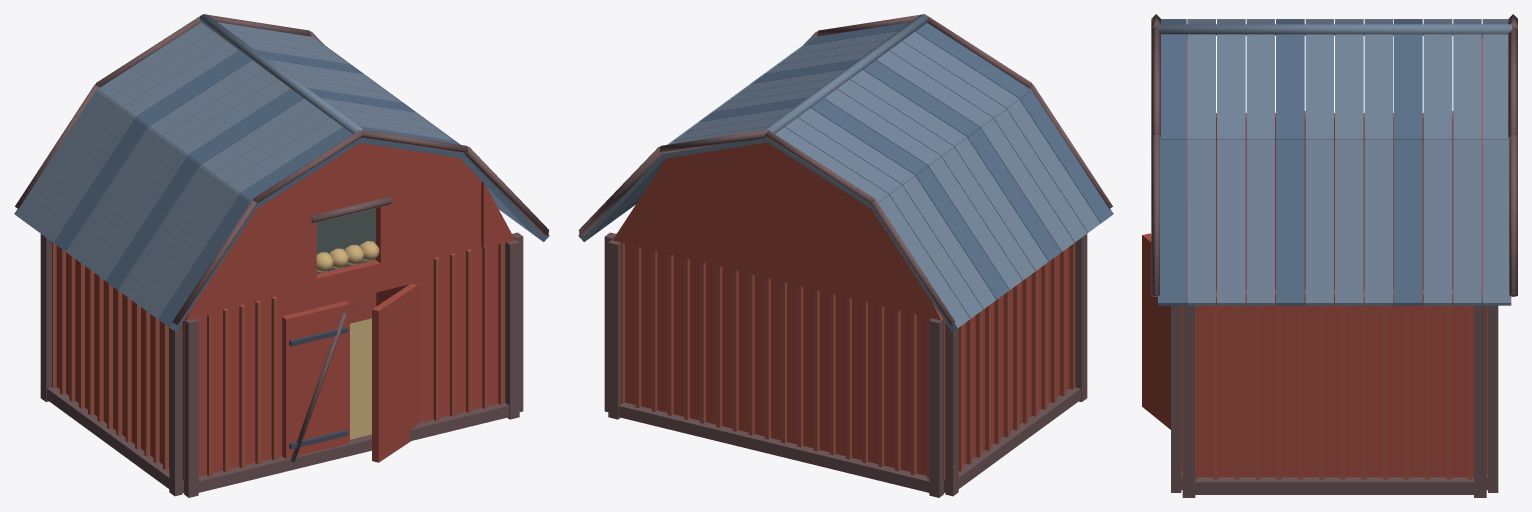
Rendered from barn.glb.
3 views of the same model, side by side, from view 1: azimuth 30°, elevation 25°; view 2: azimuth 150°, elevation 25°; view 3: azimuth 270°, elevation 25° (orthographic). The views are drawn at different scales.
Parts seen in each view (by area): view 1: Barn_front_gable_peak, Barn_red_board_wall.003, Barn_left_door, Barn_red_board_wall, Barn_ajar_door, Barn_red_board_wall.007, Barn_front_gable_lower.006, Barn_front_gable_lower.001, Barn_sill_beam, Barn_red_board_wall.002, Barn_corner_frame, Barn_gambrel_slate (+84 smaller); view 2: Barn_red_board_wall.006, Barn_rear_gable, Barn_red_board_wall.007, Barn_sill_beam.002, Barn_corner_frame.005, Barn_gambrel_slate.011, Barn_gambrel_slate.002, Barn_gambrel_slate.006, Barn_gambrel_slate.004, Barn_gambrel_slate.008, Barn_gambrel_slate.010, Barn_gambrel_slate.007 (+75 smaller); view 3: Barn_red_board_wall.005, Barn_gambrel_slate.043, Barn_gambrel_slate.045, Barn_sill_beam.001, Barn_gambrel_slate.037, Barn_gambrel_slate.038, Barn_gambrel_slate.040, Barn_gambrel_slate.042, Barn_gambrel_slate.044, Barn_gambrel_slate.046, Barn_gambrel_slate.039, Barn_gambrel_slate.041 (+39 smaller).
Boxes of the visible parts, box(x1,y1,x2,y2) form: Barn_front_gable_peak: box(235, 142, 482, 241); Barn_red_board_wall.003: box(413, 261, 505, 422); Barn_left_door: box(282, 301, 349, 458); Barn_red_board_wall: box(183, 315, 282, 493); Barn_ajar_door: box(372, 283, 418, 462); Barn_red_board_wall.007: box(56, 245, 183, 492); Barn_front_gable_lower.006: box(376, 182, 481, 263); Barn_front_gable_lower.001: box(218, 223, 316, 302); Barn_sill_beam: box(184, 402, 509, 492); Barn_red_board_wall.002: box(282, 262, 414, 315); Barn_corner_frame: box(184, 318, 198, 497); Barn_gambrel_slate: box(158, 193, 258, 331); Barn_red_board_wall.006: box(625, 243, 943, 493); Barn_rear_gable: box(613, 142, 942, 320); Barn_red_board_wall.007: box(944, 247, 1069, 492); Barn_sill_beam.002: box(618, 402, 943, 492); Barn_corner_frame.005: box(929, 318, 943, 497); Barn_gambrel_slate.011: box(869, 193, 969, 331); Barn_gambrel_slate.002: box(992, 107, 1087, 242); Barn_gambrel_slate.006: box(940, 145, 1035, 280); Barn_gambrel_slate.004: box(966, 126, 1061, 261); Barn_gambrel_slate.008: box(914, 164, 1009, 299); Barn_gambrel_slate.010: box(888, 183, 983, 318); Barn_gambrel_slate.007: box(927, 155, 1022, 290); Barn_red_board_wall.005: box(1197, 290, 1482, 477); Barn_gambrel_slate.043: box(1364, 137, 1393, 305); Barn_gambrel_slate.045: box(1423, 137, 1452, 305); Barn_sill_beam.001: box(1195, 477, 1473, 494); Barn_gambrel_slate.037: box(1187, 137, 1215, 305); Barn_gambrel_slate.038: box(1217, 137, 1245, 305); Barn_gambrel_slate.040: box(1276, 137, 1304, 305); Barn_gambrel_slate.042: box(1335, 137, 1363, 305); Barn_gambrel_slate.044: box(1394, 137, 1422, 305); Barn_gambrel_slate.046: box(1453, 137, 1481, 305); Barn_gambrel_slate.039: box(1246, 137, 1274, 305); Barn_gambrel_slate.041: box(1305, 137, 1333, 305).
Bounding box in the file's own units: 7.73 × 6.48 × 5.85.
